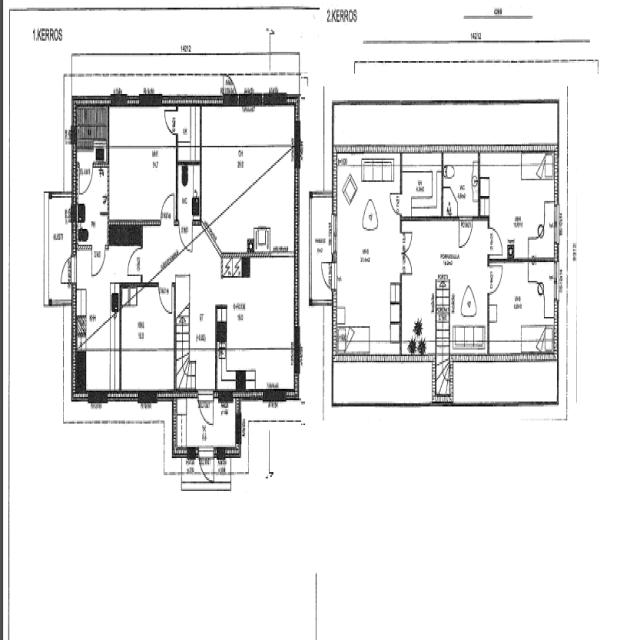door: (76, 154, 95, 198), (196, 386, 216, 427), (196, 446, 217, 484), (400, 225, 415, 275), (125, 243, 144, 280), (91, 241, 109, 277), (176, 218, 194, 254), (59, 252, 78, 286), (487, 260, 504, 296), (159, 187, 177, 221), (319, 257, 336, 291), (157, 282, 174, 315), (487, 223, 504, 256), (442, 183, 458, 216), (458, 216, 474, 248), (163, 105, 178, 137), (388, 189, 404, 217)
window: (330, 203, 338, 260), (553, 200, 561, 241), (553, 262, 560, 304)
zone: (201, 100, 296, 251), (334, 151, 402, 357), (401, 218, 488, 352), (217, 252, 297, 388), (106, 108, 177, 225), (480, 154, 558, 260), (488, 258, 556, 356), (119, 284, 175, 392), (76, 280, 118, 392), (72, 142, 109, 246), (401, 152, 442, 219), (441, 150, 480, 216), (176, 160, 202, 228), (176, 102, 202, 163), (451, 314, 486, 356)
